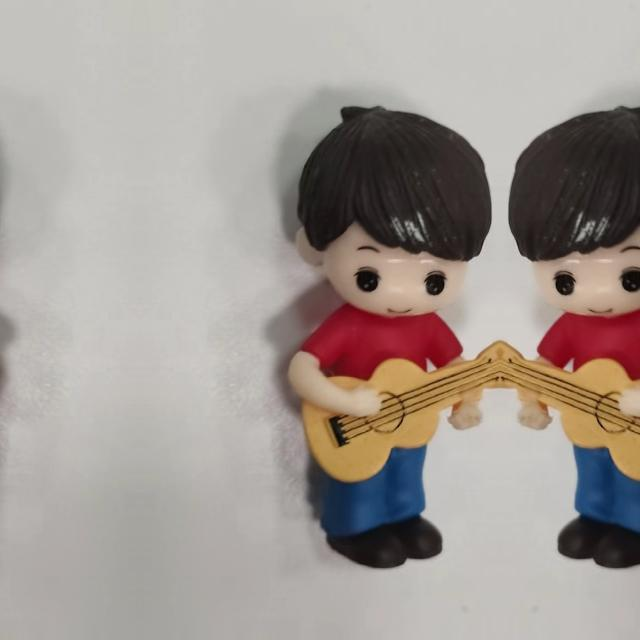man cloth: (294, 301, 466, 444), (534, 300, 640, 443)
man head: (287, 98, 493, 318), (507, 97, 640, 318)
trousers: (307, 432, 451, 570), (549, 432, 640, 570)
